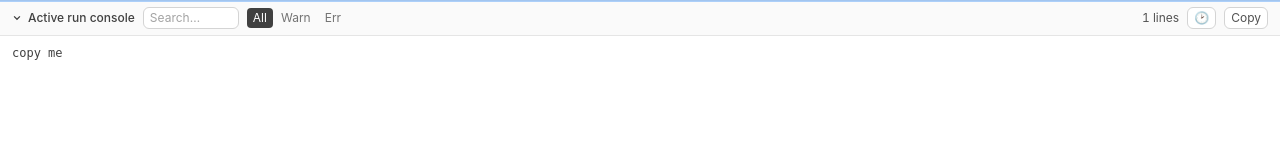
Test: Console › surfaces clipboard failures instead of reporting a false success
Step 1. Click the button "Copy" → (1246, 18), box left=1224, top=7, right=1268, bottom=29
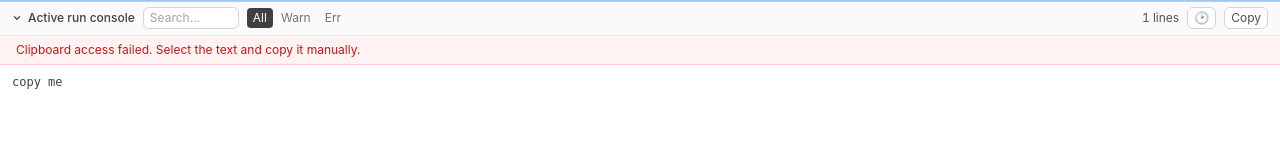
Result: the message shows "Clipboard access failed" at left=16, top=42, right=360, bottom=57
